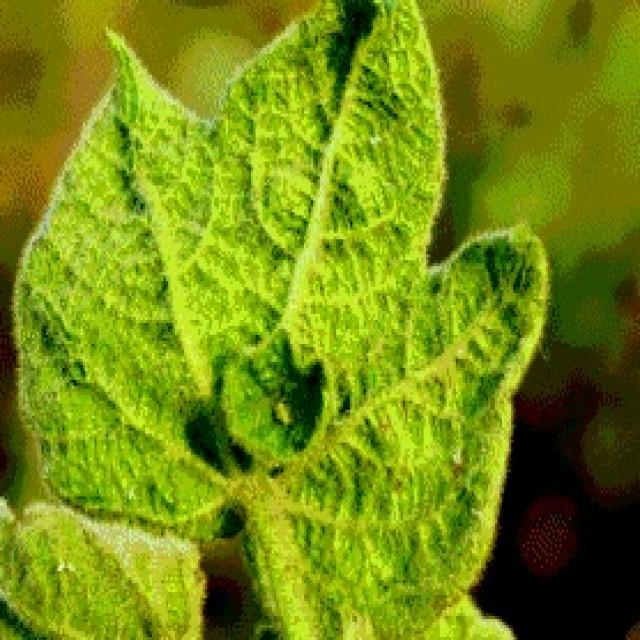Leaf Curl Virus: (82, 124, 450, 534)
